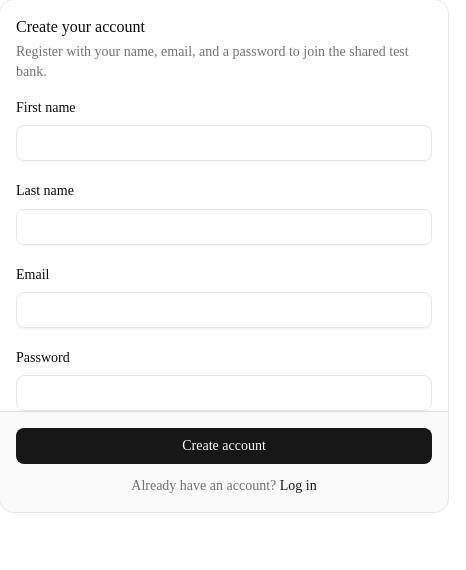
RegisterForm › shows a server error including duplicate email to the user
In the field labelled "First name": (224, 143) [16,125,432,161], type "Jane"
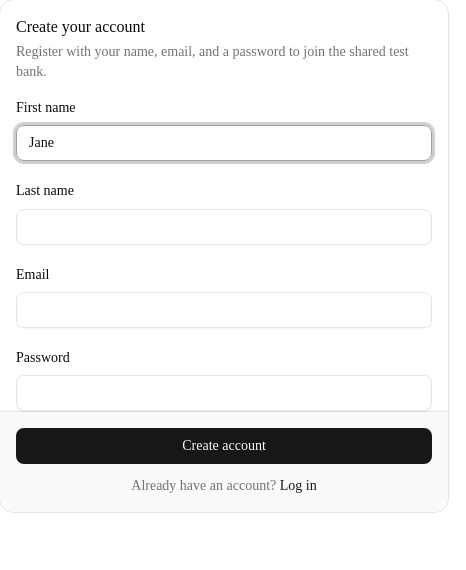
In the field labelled "Last name": (224, 226) [16,208,432,244], type "Doe"
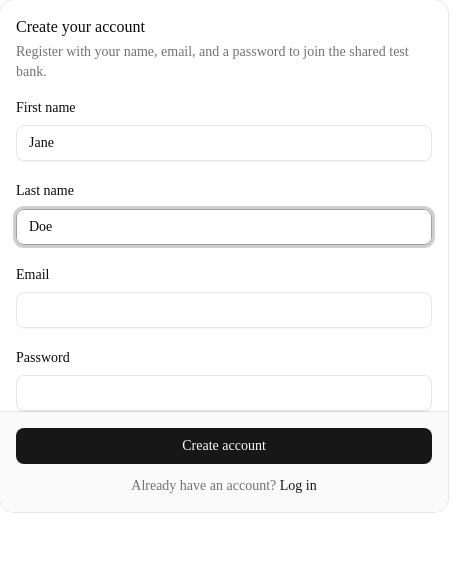
In the field labelled "Email": (224, 310) [16,292,432,328], type "jane@school.edu"
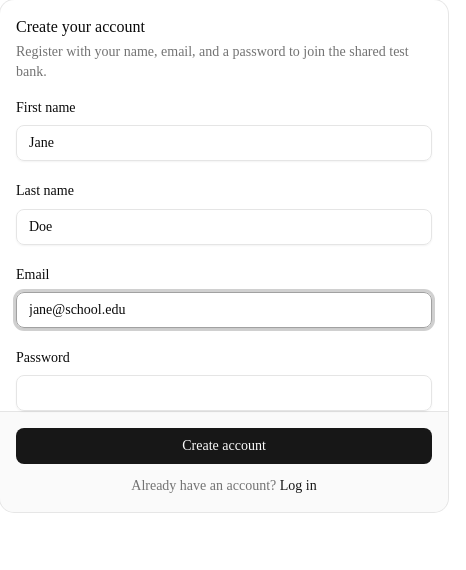
In the password field labelled "Password": (224, 393) [16,375,432,411], type "correct-horse-battery"
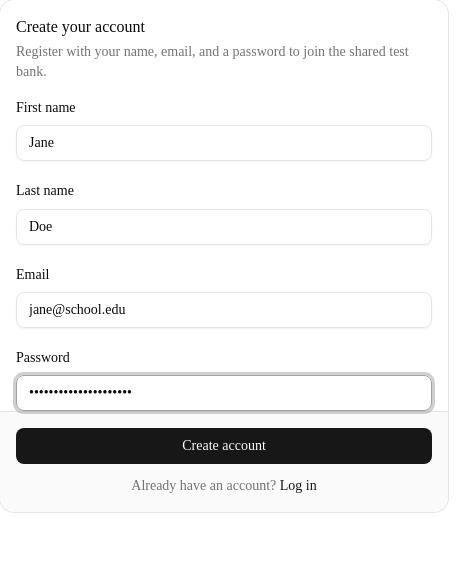
Click the button "Create account": (224, 446) [16,428,432,464]
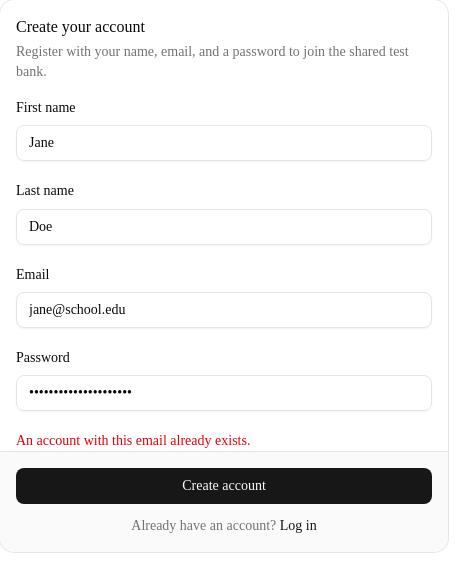
Check: the text "An account with this email already exists." is shown, box [16,433,250,448]
